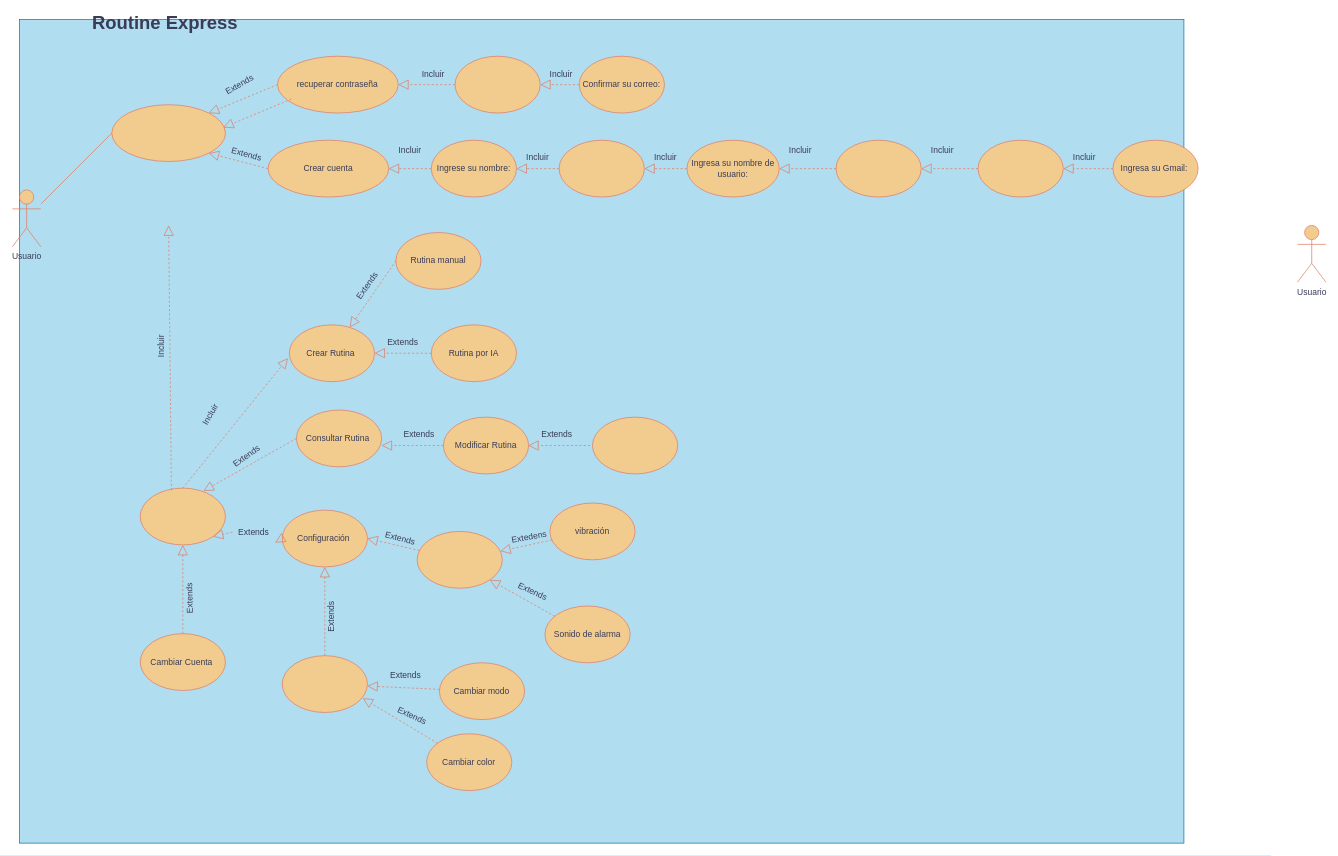
This 1338x856 diagram has some shape labels left out. The shapes that lost their labels are listed below. From the top down, each one's box as (x1, y1, x2, y2) in pixels, then its label:
(454, 56, 540, 113): Ingrese su correo:
(111, 104, 225, 162): Iniciar sesion
(558, 140, 644, 197): Ingresa su apellido:
(835, 140, 921, 197): Ingresa la contraseña:
(977, 140, 1063, 197): Confirmar contraseña:
(592, 416, 678, 474): Eliminar Rutina
(140, 487, 225, 545): Menú
(416, 531, 502, 588): Notificación
(282, 655, 367, 712): Personalizar
